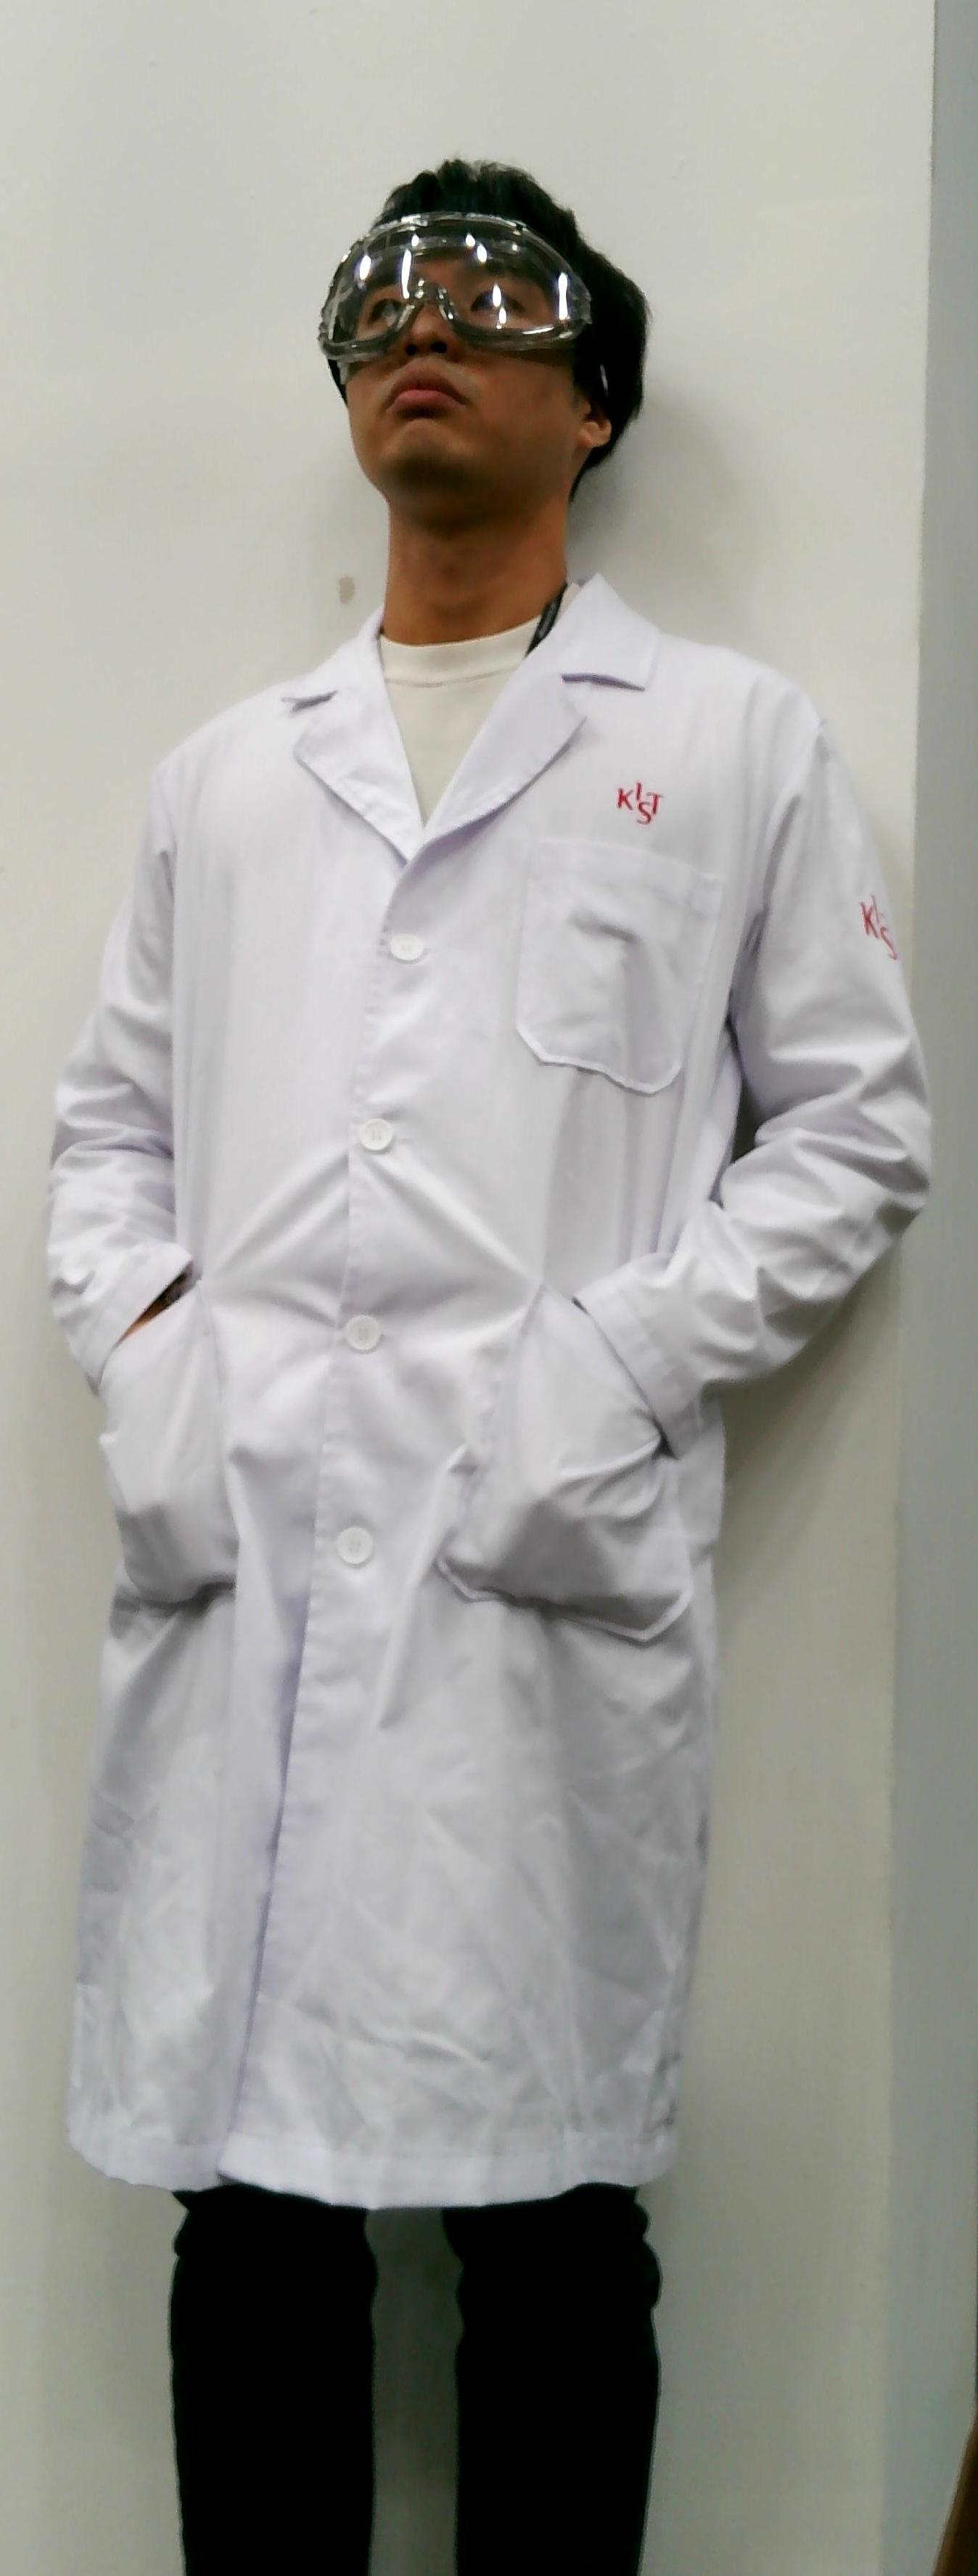lab_coat: (20, 692, 799, 2215)
